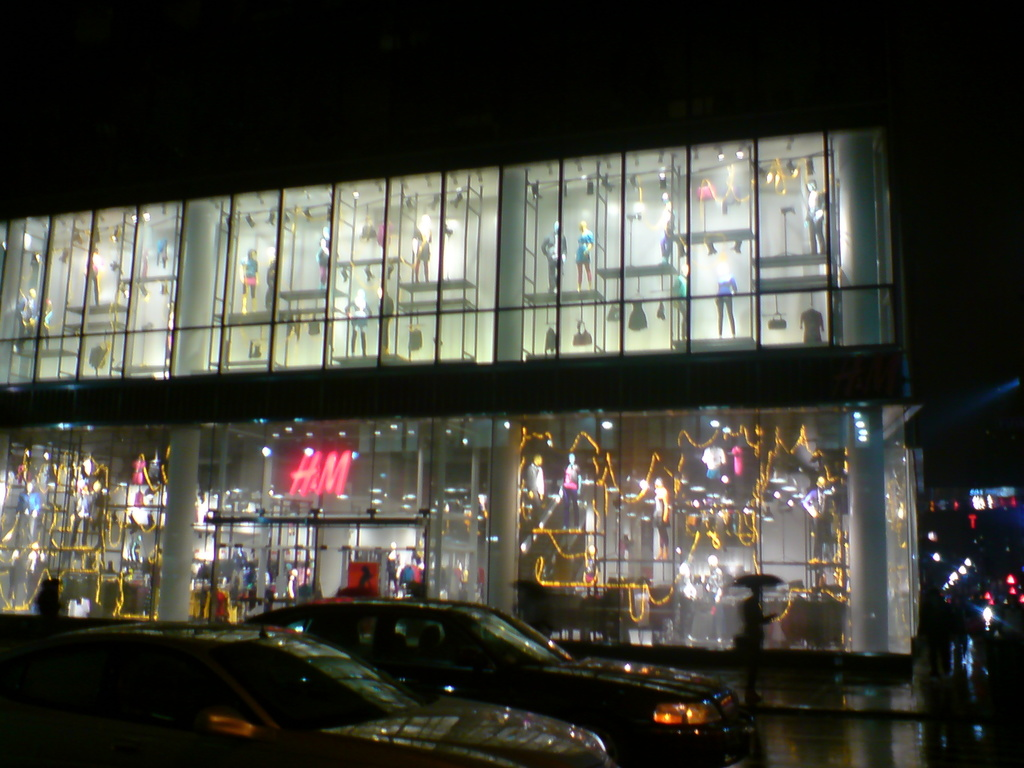Car: (0, 622, 607, 767), (240, 600, 755, 767)
